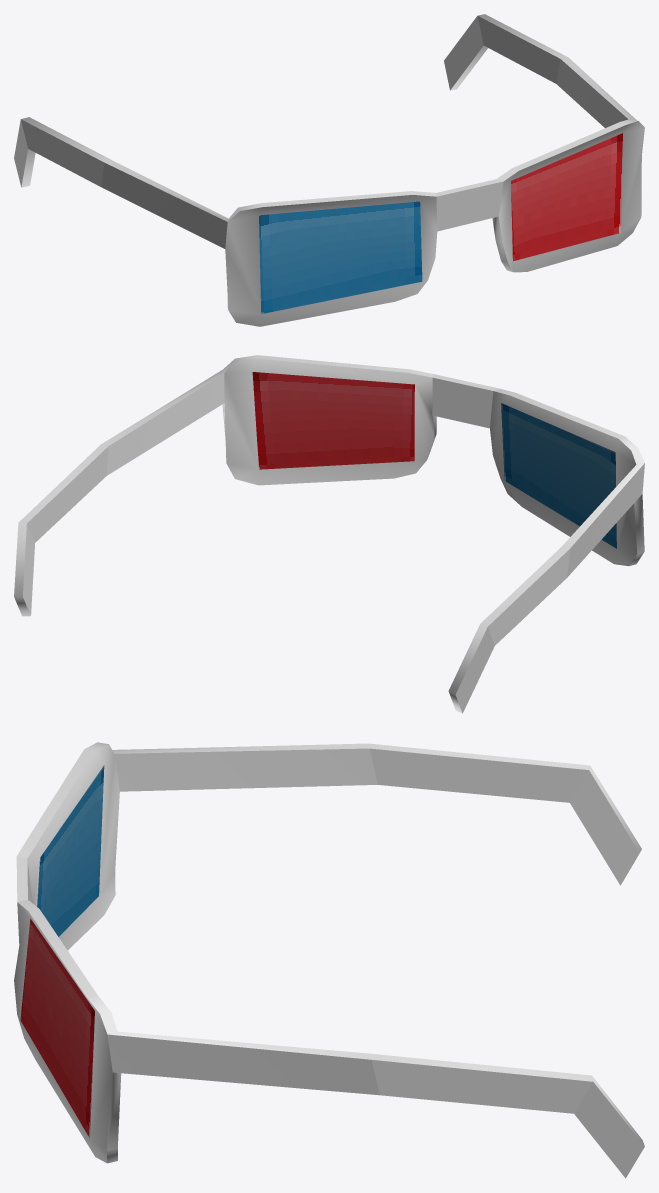
File: WorldItem_HCGlasses_3D.fbx
The picture shows the model from 3 angles, top to bottom: view 1: azimuth 30°, elevation 25°; view 2: azimuth 150°, elevation 25°; view 3: azimuth 270°, elevation 25°; orthographic projection. The views are drawn at different scales.
Visible parts, largest first — view 1: Glasses_3D; view 2: Glasses_3D; view 3: Glasses_3D.
Boxes of the visible parts, left/top/right/bottom form: Glasses_3D: left=14, top=14, right=644, bottom=326; Glasses_3D: left=14, top=355, right=644, bottom=713; Glasses_3D: left=14, top=742, right=644, bottom=1178.
Bounding box in the file's own units: 0.115 × 0.0306 × 0.1008.
